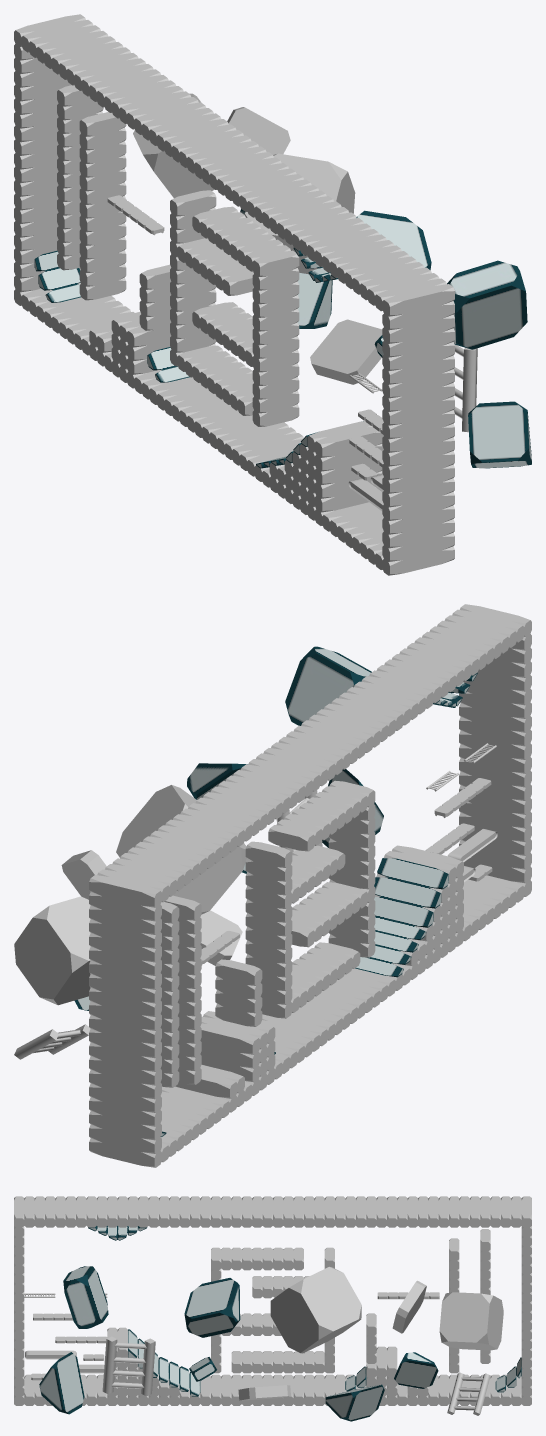
File: MG-ChangJing-CeShi-01.FBX
3 renders of one model, top to bottom at view 1: azimuth 30°, elevation 25°; view 2: azimuth 150°, elevation 25°; view 3: azimuth 270°, elevation 25°, orthographic. The views are drawn at different scales.
Parts seen in each view (by area): view 1: MG-ChangJing-01 (×2), MG-ChangJing-02, MG-ChangJing-125, MG-ChangJing-06, MG-ChangJing-03 (×2), MG-ChangJing-124, MG-ChangJing-020, MG-ChangJing-127, MG-ChangJing-126, MG-ChangJing-05; view 2: MG-ChangJing-01 (×2), MG-ChangJing-124, MG-ChangJing-03, MG-ChangJing-02, MG-ChangJing-020, MG-ChangJing-127, MG-ChangJing-126, MG-ChangJing-129, MG-ChangJing-06; view 3: MG-ChangJing-01 (×2), MG-ChangJing-124, MG-ChangJing-127, MG-ChangJing-03 (×2), MG-ChangJing-02, MG-ChangJing-05, MG-ChangJing-125, MG-ChangJing-020, MG-ChangJing-04, MG-ChangJing-129, MG-ChangJing-126, MG-ChangJing-06 (+1 smaller).
Part boxes in pixels (box(x1,y1,x2,y2)): MG-ChangJing-01 (×2): box(14, 14, 454, 575); MG-ChangJing-02: box(447, 260, 527, 349); MG-ChangJing-125: box(468, 401, 531, 468); MG-ChangJing-06: box(310, 319, 382, 384); MG-ChangJing-03 (×2): box(38, 267, 363, 463); MG-ChangJing-124: box(245, 153, 355, 274); MG-ChangJing-020: box(34, 248, 337, 468); MG-ChangJing-127: box(356, 210, 431, 269); MG-ChangJing-126: box(227, 107, 290, 154); MG-ChangJing-05: box(453, 344, 477, 432); MG-ChangJing-01 (×2): box(14, 604, 531, 1167); MG-ChangJing-124: box(116, 785, 246, 914); MG-ChangJing-03: box(374, 858, 448, 927); MG-ChangJing-02: box(285, 646, 371, 725); MG-ChangJing-020: box(160, 672, 477, 1136); MG-ChangJing-127: box(187, 763, 247, 799); MG-ChangJing-126: box(61, 850, 106, 899); MG-ChangJing-129: box(14, 1024, 90, 1059); MG-ChangJing-06: box(200, 910, 242, 965); MG-ChangJing-01 (×2): box(14, 1196, 531, 1405); MG-ChangJing-124: box(270, 1266, 361, 1353); MG-ChangJing-127: box(184, 1278, 240, 1337); MG-ChangJing-03 (×2): box(128, 1329, 516, 1421); MG-ChangJing-02: box(63, 1266, 108, 1328); MG-ChangJing-05: box(102, 1336, 155, 1396); MG-ChangJing-125: box(39, 1352, 84, 1414); MG-ChangJing-020: box(88, 1226, 521, 1396); MG-ChangJing-04: box(394, 1352, 438, 1388); MG-ChangJing-129: box(447, 1372, 490, 1415); MG-ChangJing-126: box(392, 1280, 426, 1333); MG-ChangJing-06: box(238, 1385, 290, 1400).
Size of the model in its own units: 229 by 315 by 787.
